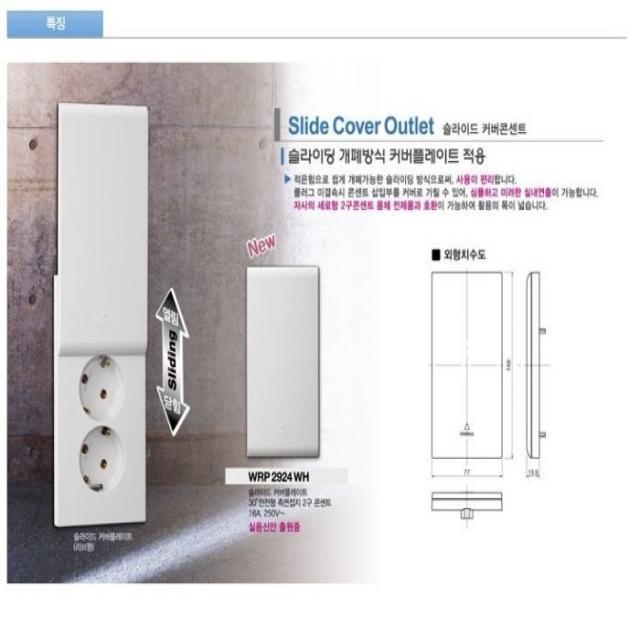typeb: (44, 247, 156, 542)
